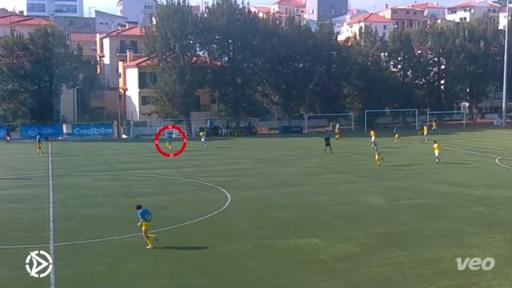highlight_overlay: (153, 123, 190, 158)
